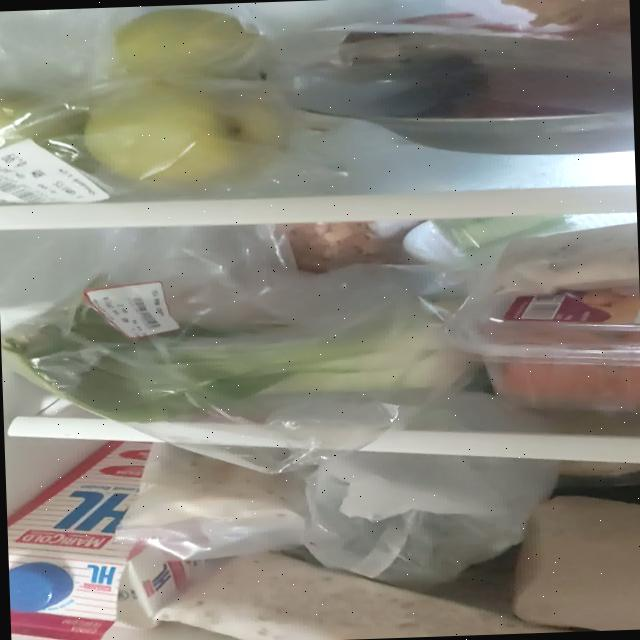apple: (0, 2, 299, 201)
pakchoy: (5, 272, 477, 424)
tempeh: (149, 541, 567, 640)
unknown_bag: (298, 445, 562, 590)
